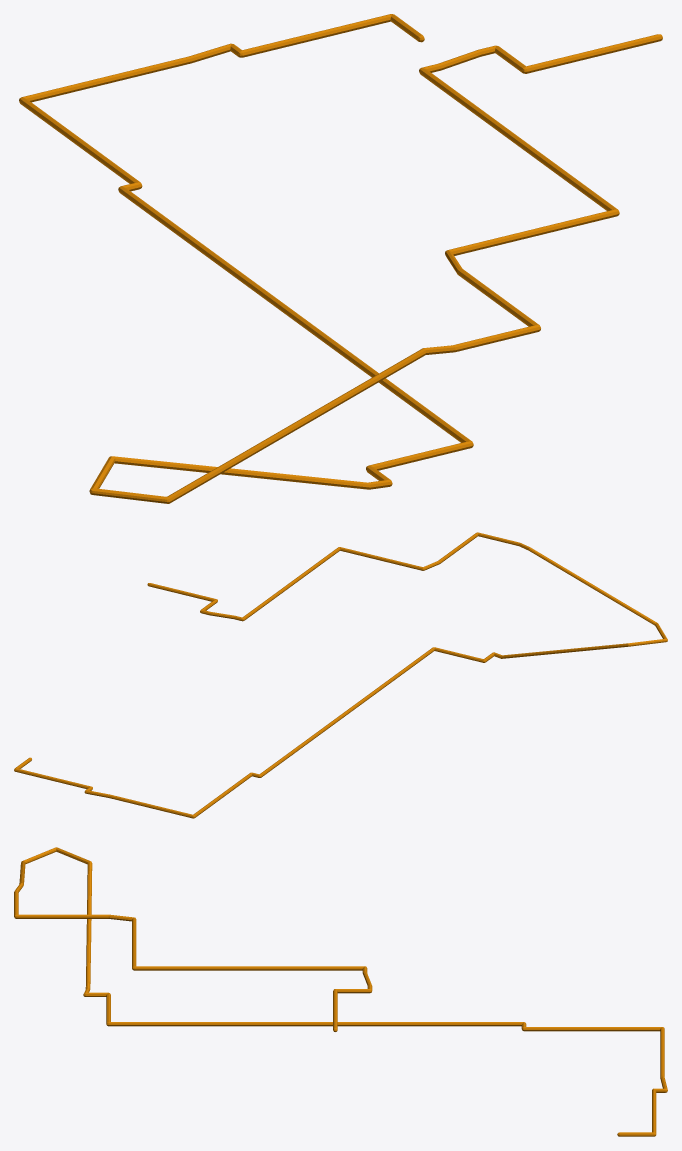
The picture shows the model from 3 angles, top to bottom: view 1: azimuth 30°, elevation 25°; view 2: azimuth 150°, elevation 25°; view 3: azimuth 270°, elevation 25°; orthographic projection. The views are drawn at different scales.
Bounding box in the file's own units: 2408 × 520 × 2834.
